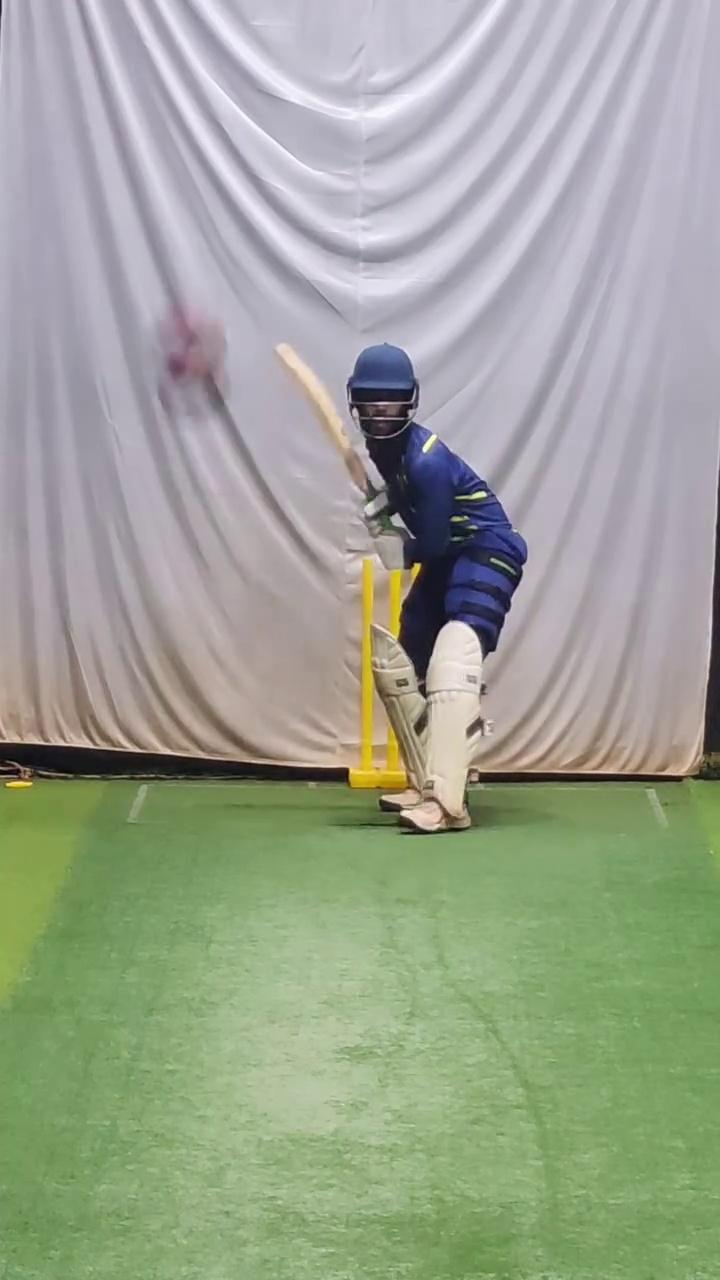bat: (270, 334, 380, 509)
